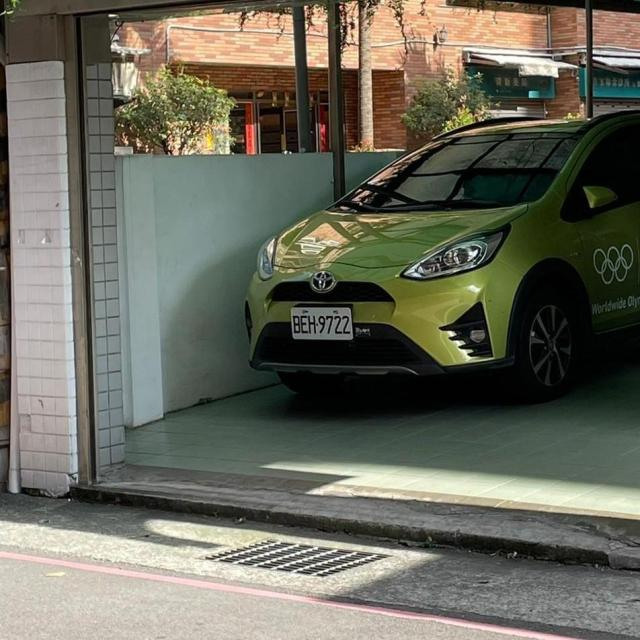W: (282, 300, 361, 346)
